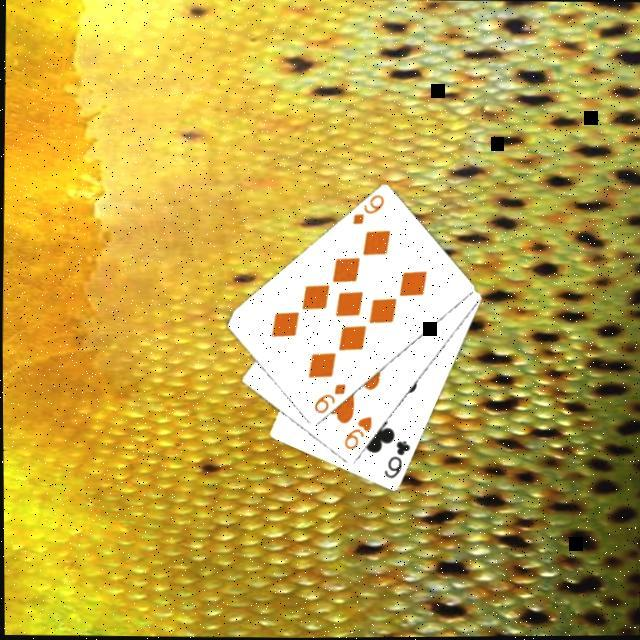6C: (382, 435, 414, 480)
9D: (311, 378, 350, 416), (350, 190, 389, 228)
9H: (341, 411, 376, 452)
